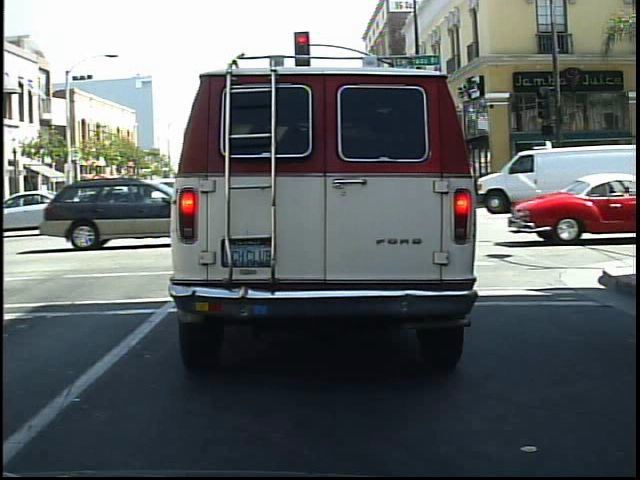person: (583, 143, 608, 210), (538, 152, 562, 210), (514, 155, 536, 207)
